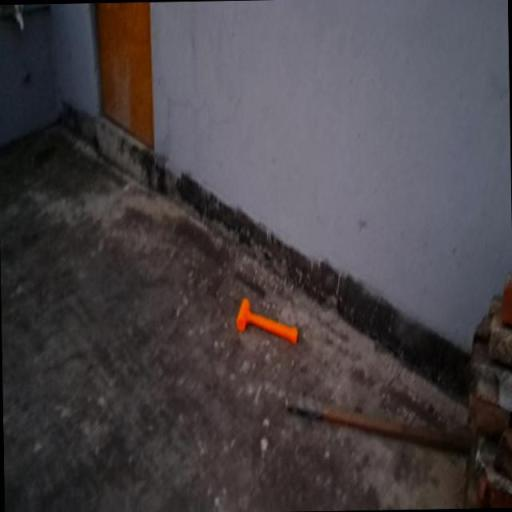mallet: (237, 298, 298, 349)
